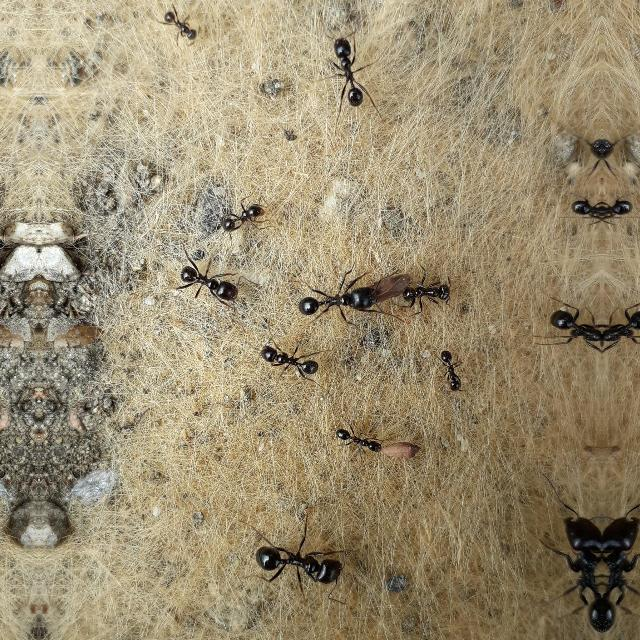Messor: (534, 502, 600, 634), (238, 530, 344, 594), (601, 502, 640, 634), (526, 302, 600, 354), (326, 34, 372, 112), (173, 256, 237, 308), (293, 278, 371, 318), (400, 267, 462, 311), (334, 422, 388, 460), (601, 302, 640, 354), (220, 188, 258, 234), (430, 342, 462, 393), (260, 343, 316, 371), (158, 6, 192, 46), (578, 132, 600, 192), (602, 132, 624, 192), (565, 192, 601, 228), (601, 192, 637, 228)
